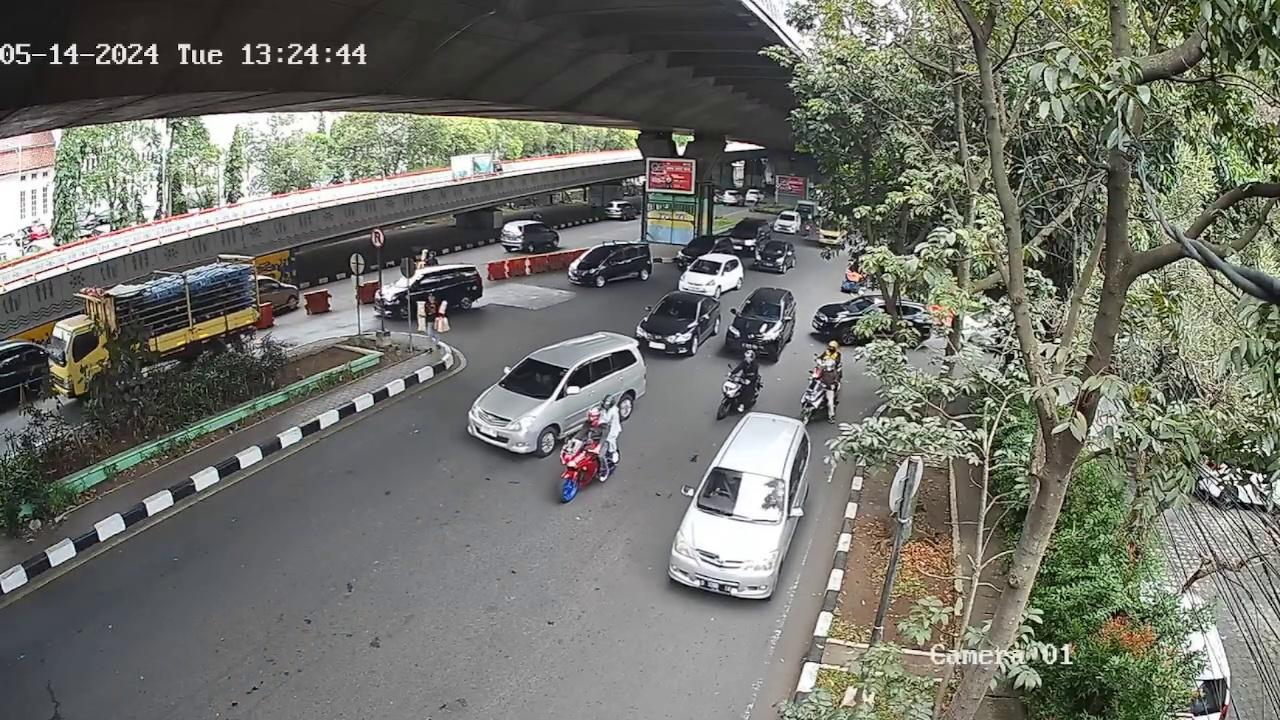pakai: (715, 474, 736, 501), (534, 371, 551, 386)
windshield: (704, 467, 781, 519), (501, 358, 568, 400), (653, 295, 697, 319), (741, 299, 780, 319)
